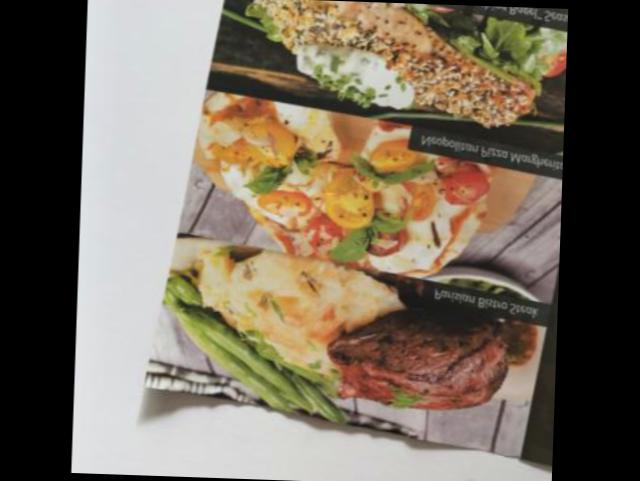cardboard paper: (145, 0, 569, 461)
